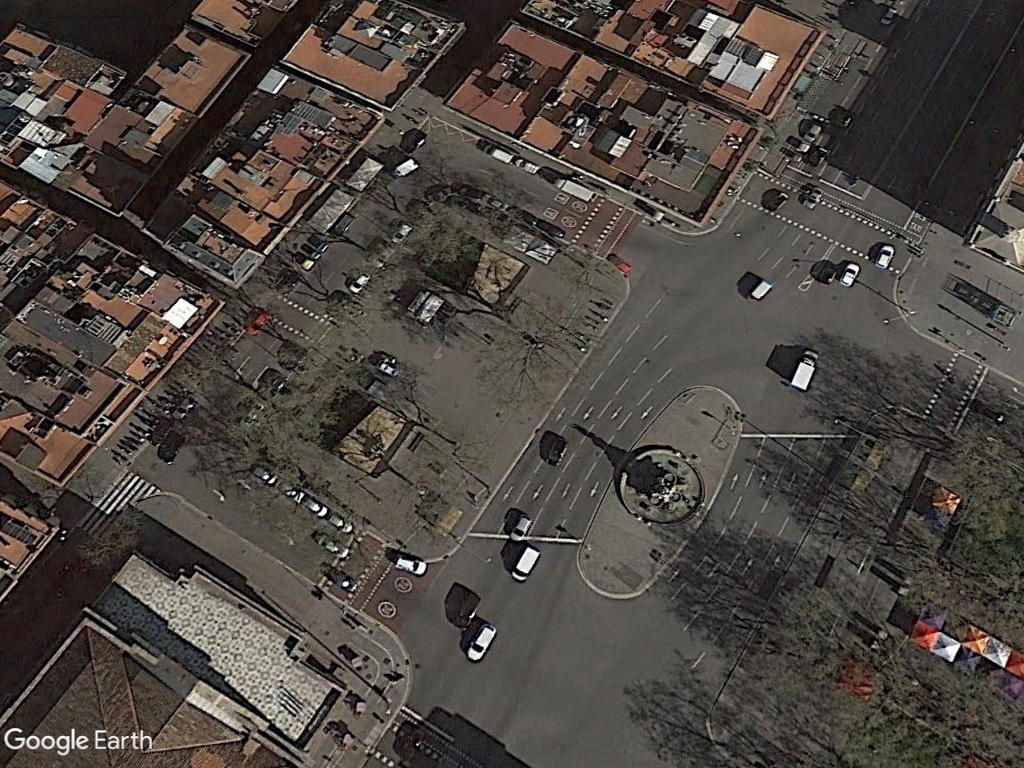car: (461, 619, 501, 664), (390, 552, 428, 578)
truck: (550, 173, 602, 206), (786, 345, 821, 394)
van: (506, 543, 544, 585)
